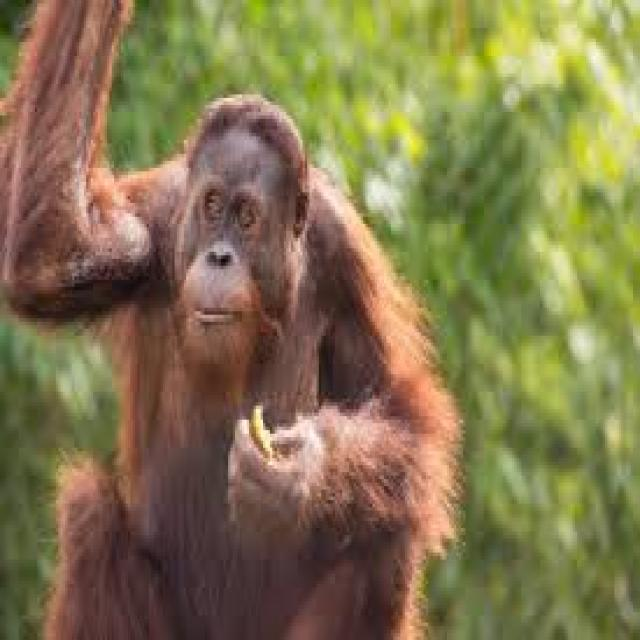Orangutan: (0, 63, 462, 640)
